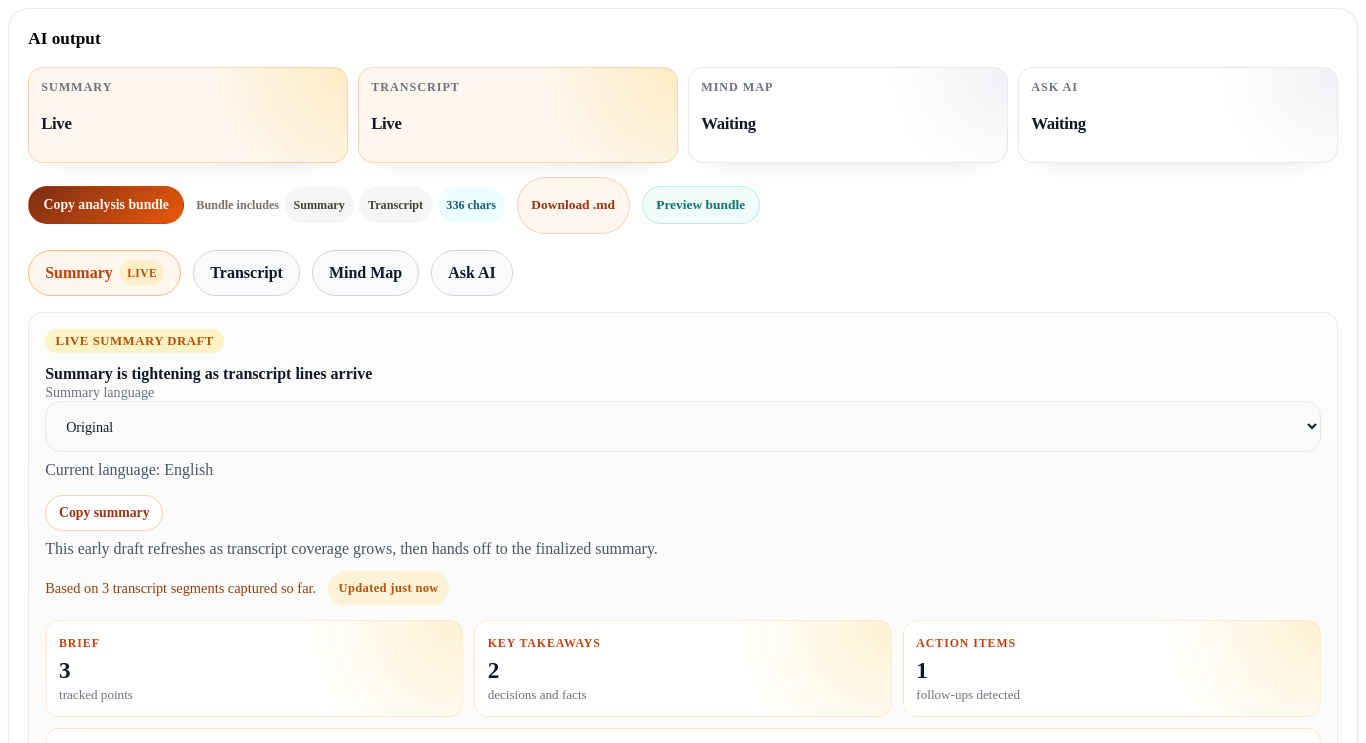
Test case: filters transcript lines by search query
Click the tab "Transcript": {"x": 247, "y": 273} x1=193 y1=250 x2=300 y2=296
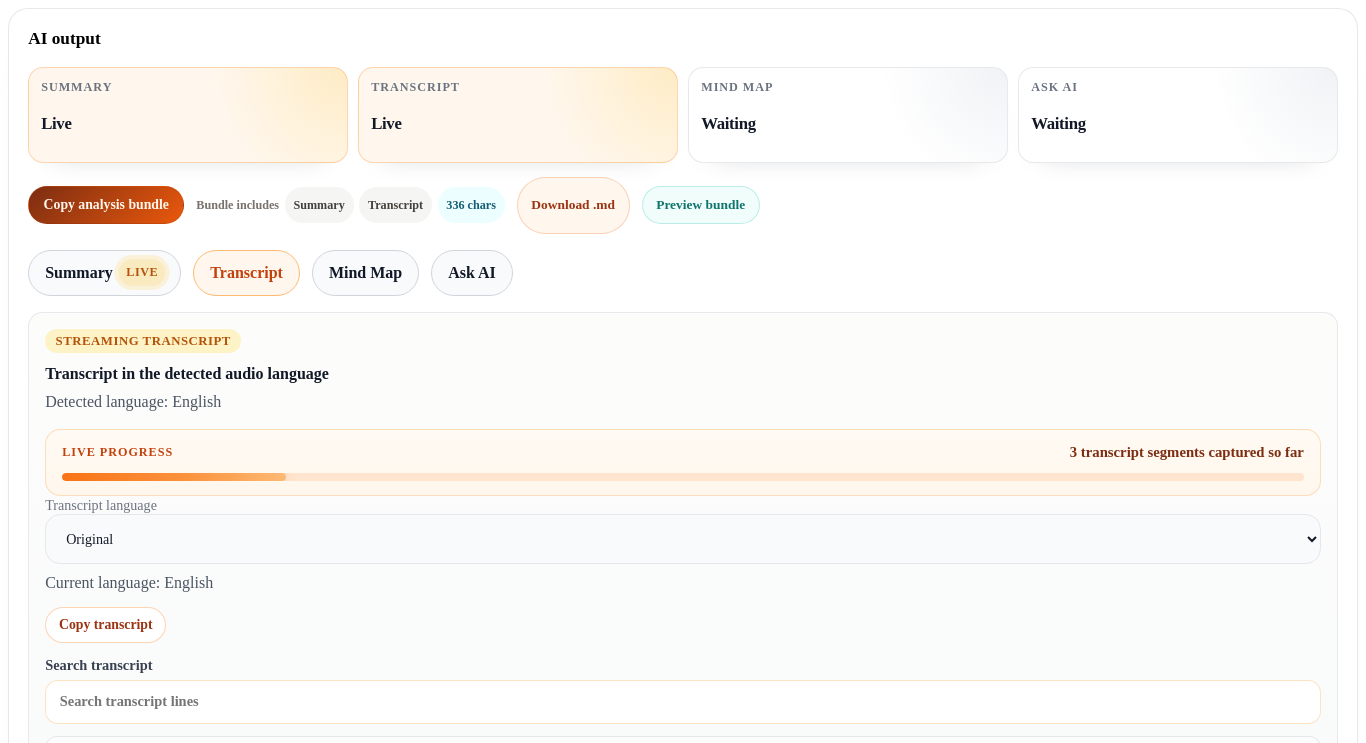
In the search field labelled "Search transcript": {"x": 683, "y": 702} x1=45 y1=680 x2=1321 y2=724, type "customer"
(page scrolled)
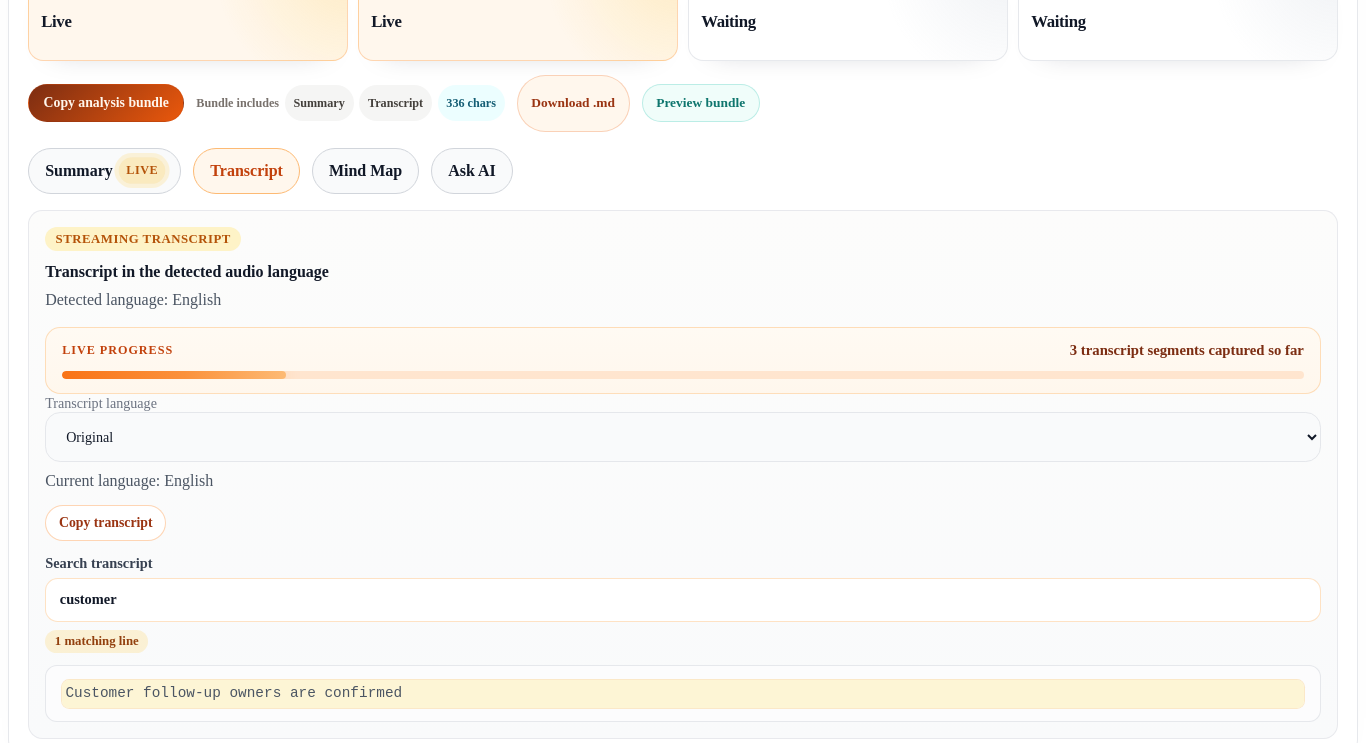
expect the text "1 matching line" is shown: met, box x1=45 y1=630 x2=148 y2=654
